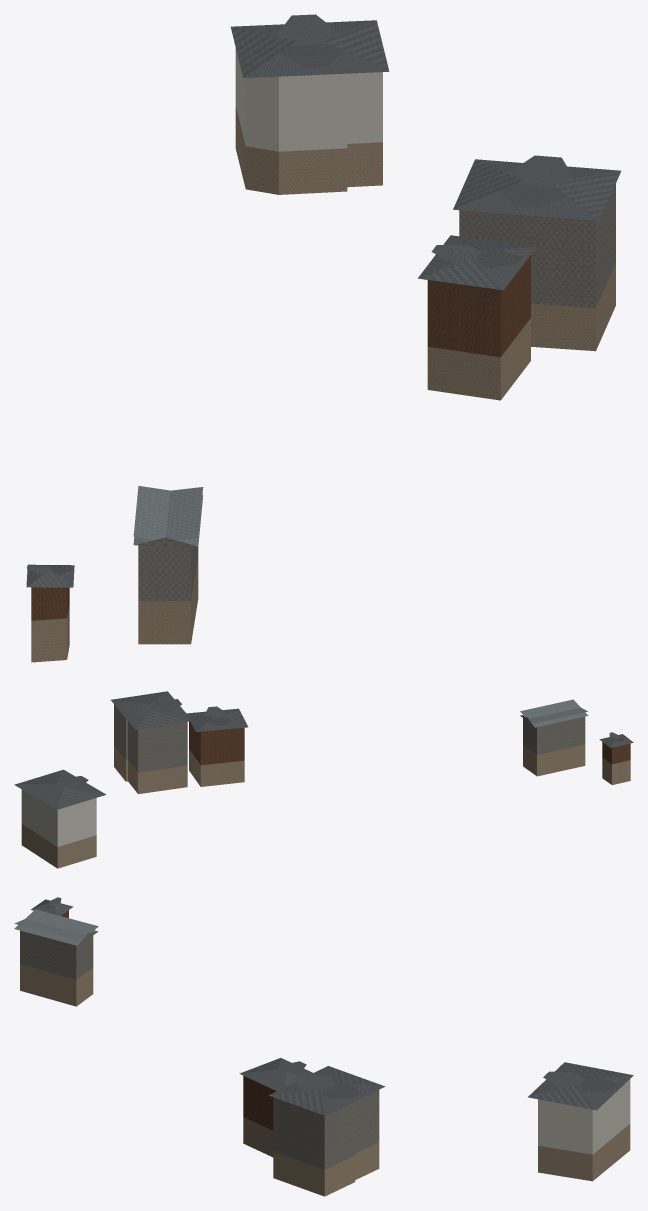
Rendered from bld_c-3_18_537.gltf.
3 views of the same model, one above another, from view 1: azimuth 30°, elevation 25°; view 2: azimuth 150°, elevation 25°; view 3: azimuth 270°, elevation 25° (orthographic). The views are drawn at different scales.
Visible parts, largest first — view 1: bld_c-3_18_537; view 2: bld_c-3_18_537; view 3: bld_c-3_18_537.
Part boxes in pixels (x1,y1,x2,y2): bld_c-3_18_537: [26, 14, 621, 662]; bld_c-3_18_537: [14, 691, 633, 868]; bld_c-3_18_537: [14, 897, 633, 1196].
Size of the model in its own units: 101 by 17 by 107.
Materials: 7 (7 with a texture image).
